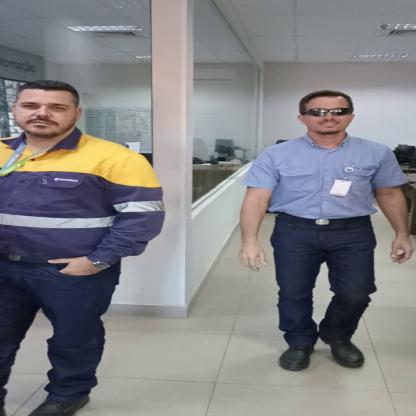Operacional: (0, 135, 172, 271)
